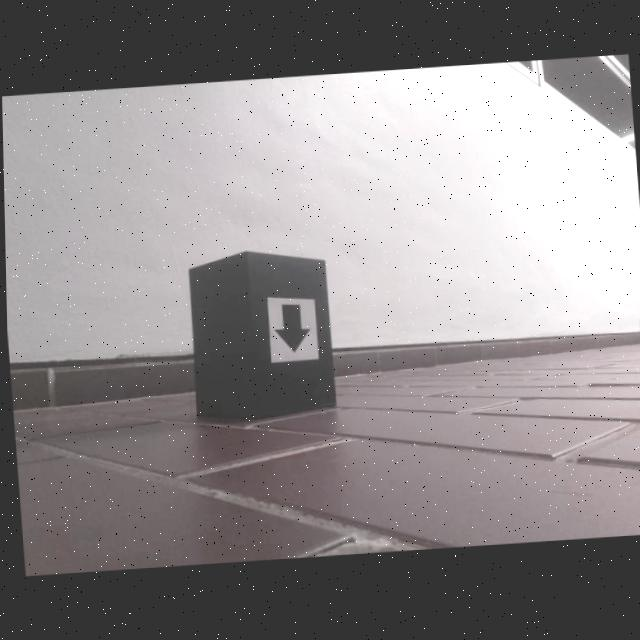DOWN: (272, 305, 310, 354)
